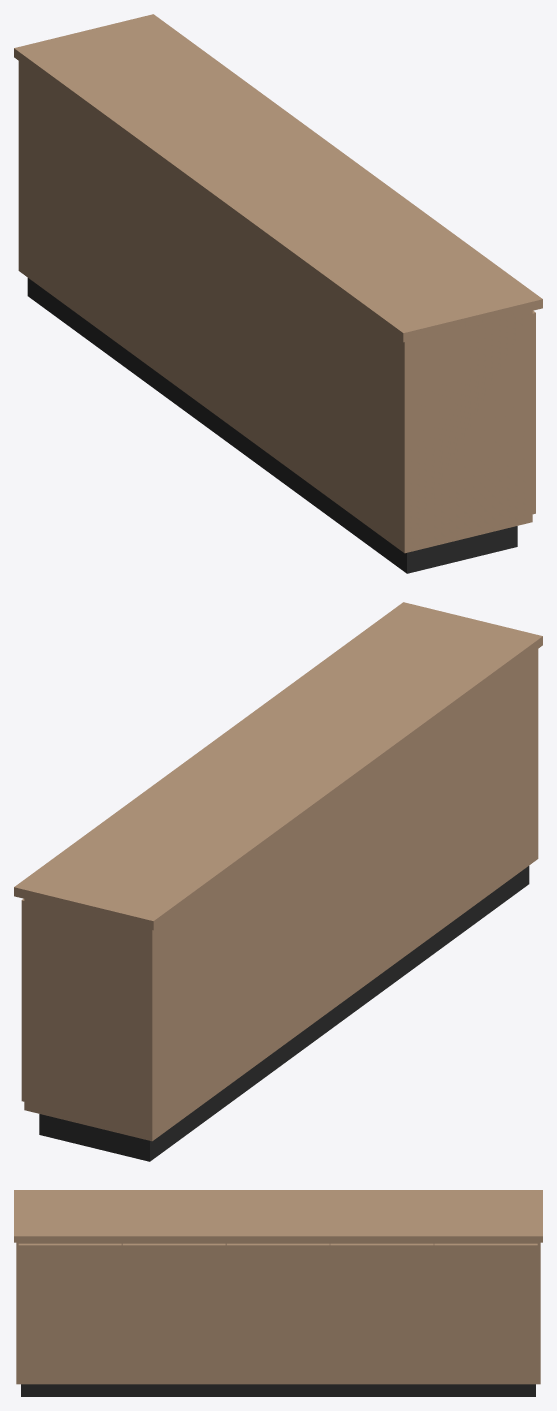
File: SM_Credenza_Study.fbx
3 renders of one model, top to bottom at view 1: azimuth 30°, elevation 25°; view 2: azimuth 150°, elevation 25°; view 3: azimuth 270°, elevation 25°, orthographic. The views are drawn at different scales.
Parts seen in each view (by area): view 1: SM_Credenza_Study; view 2: SM_Credenza_Study; view 3: SM_Credenza_Study.
Boxes of the visible parts, box(x1,y1,x2,y2) form: SM_Credenza_Study: box(14, 14, 542, 573); SM_Credenza_Study: box(14, 602, 542, 1161); SM_Credenza_Study: box(14, 1190, 542, 1396).
Size of the model in its own units: 48 by 81 by 232.
